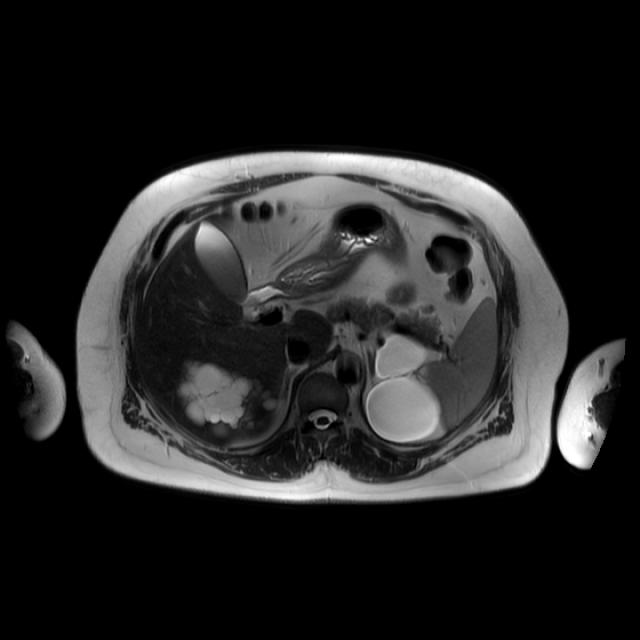sag: (181, 362, 278, 437)
sol: (365, 337, 440, 444)
